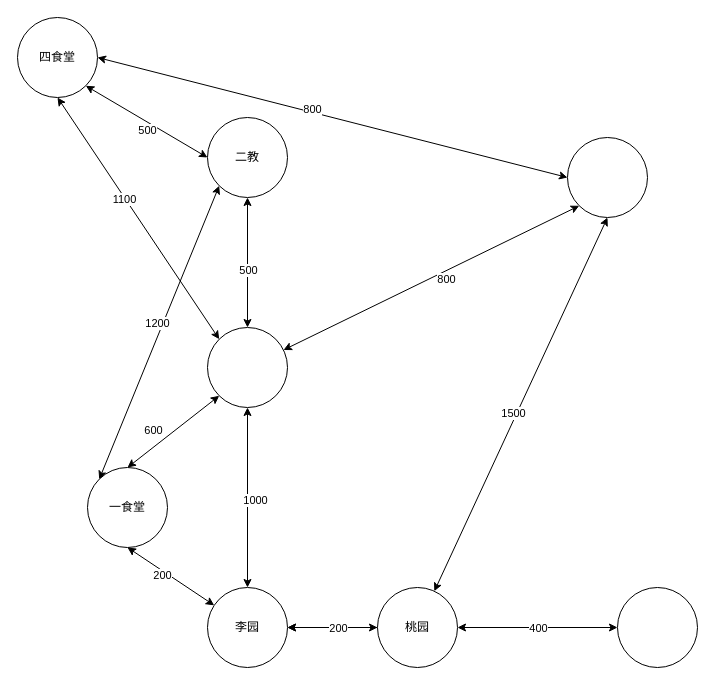
Some shapes in this 715 by 685 pixel diagram are drawn without their labels. The box of each missing label's shape, as (x1, y1, x2, y2) in pixels:
一教: (206, 326, 288, 408)
三食堂: (566, 136, 648, 218)
二食堂: (616, 586, 698, 668)
